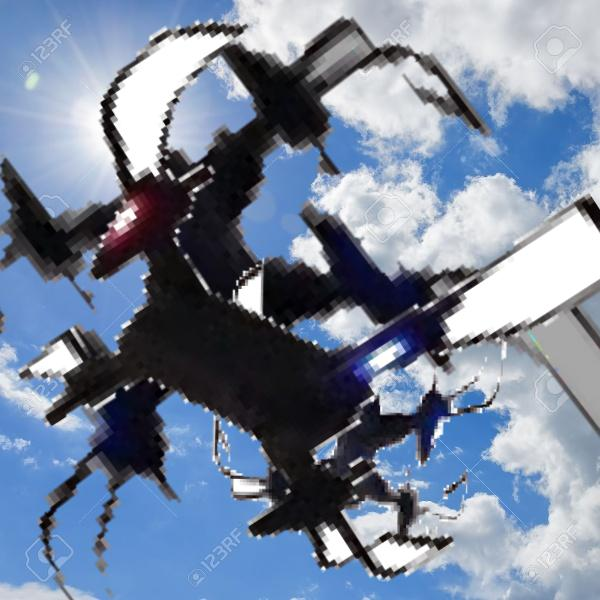drone: (201, 248, 523, 570)
